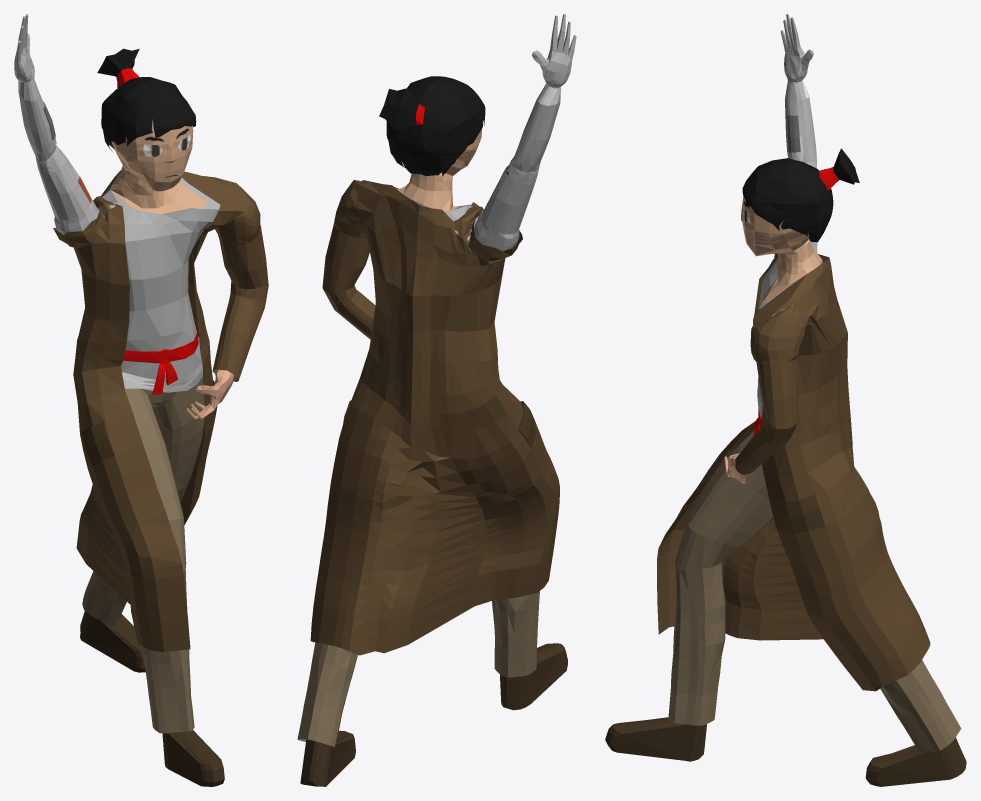
File: Special_Attack_000024.obj
3 renders of one model, left to right at view 1: azimuth 30°, elevation 25°; view 2: azimuth 150°, elevation 25°; view 3: azimuth 270°, elevation 25°, orthographic. The views are drawn at different scales.
Parts seen in each view (by area): view 1: Hair_Cube.004; view 2: Hair_Cube.004; view 3: Hair_Cube.004.
Boxes of the visible parts, x1,y1,x2,y2 form: Hair_Cube.004: (14,14,268,786); Hair_Cube.004: (297,14,576,786); Hair_Cube.004: (605,14,966,786).
Bounding box in the file's own units: 1.51 × 4.3 × 2.02.
